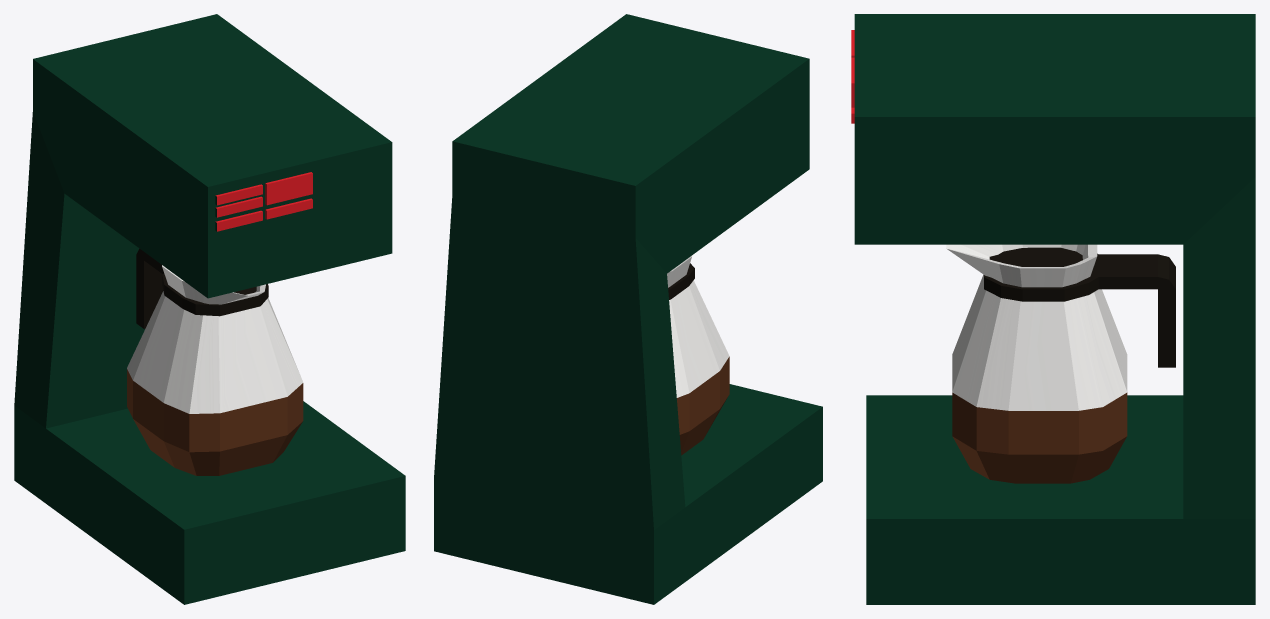
Rendered from CoffeeMachineProp.fbx.
3 renders of one model, left to right at view 1: azimuth 30°, elevation 25°; view 2: azimuth 150°, elevation 25°; view 3: azimuth 270°, elevation 25°, orthographic. The views are drawn at different scales.
Visible parts, largest first — view 1: Cube.003, Cube.005; view 2: Cube.003, Cube.005; view 3: Cube.003, Cube.005.
Part boxes in pixels (<box>): Cube.003: <box>14,14,405,604</box>; Cube.005: <box>127,248,303,475</box>; Cube.003: <box>434,14,822,604</box>; Cube.005: <box>667,255,729,455</box>; Cube.003: <box>851,14,1255,604</box>; Cube.005: <box>946,244,1175,483</box>.
Size of the model in its own units: 169 by 304 by 233.
